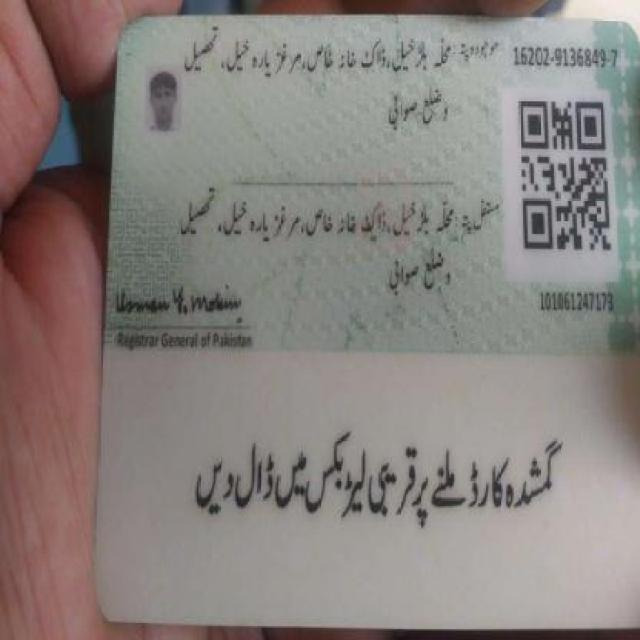Back: (91, 9, 637, 628)
